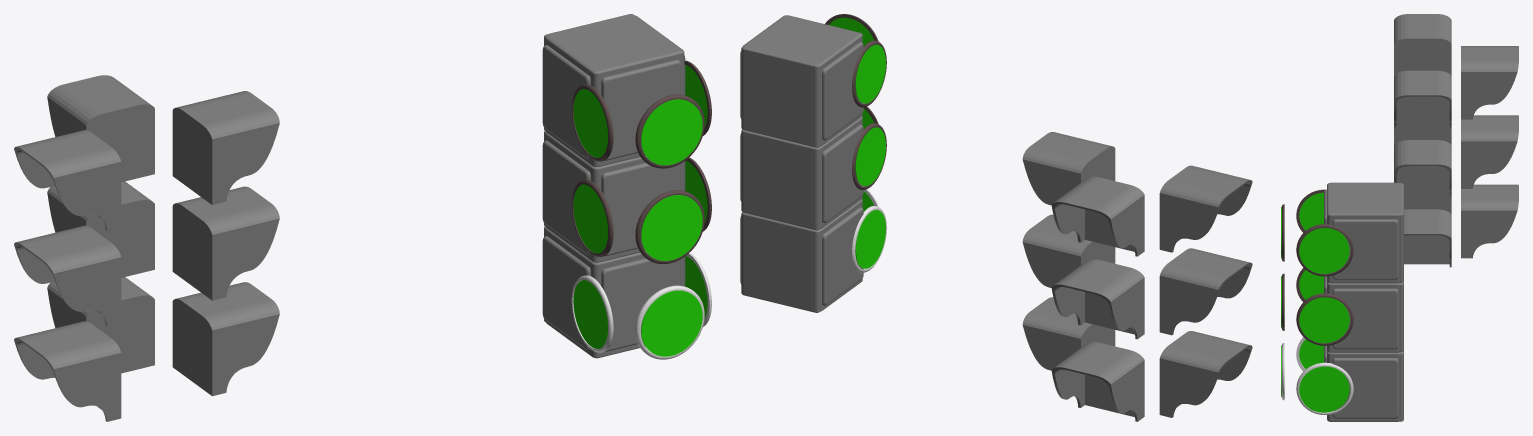
Rendered from SemaforoGrande.fbx.
3 views of the same model, side by side, from view 1: azimuth 30°, elevation 25°; view 2: azimuth 150°, elevation 25°; view 3: azimuth 270°, elevation 25° (orthographic). The views are drawn at different scales.
Visible parts, largest first — view 1: Extru5, _____5, Extru7, Extru1, Extru6, Extru2, Extru4, Extrude-Ex, _____1, _____2, _____, Extru3 (+19 smaller); view 2: _________, _____6, _____3, Extru6, Extru3, Extru, _____2, Extru4, Extrude-Ex, Extru2, Extru5, _____5 (+13 smaller); view 3: _________, _____6, _____3, Extru6, Extru, Extru3, Extrude-Ex, Extru5, _____5, Extru7, Extru1, _____30 (+13 smaller).
Boxes of the visible parts, x1,y1,x2,y2 form: Extru5: [172, 91, 279, 204]; _____5: [545, 15, 684, 166]; Extru7: [172, 186, 279, 300]; Extru1: [172, 282, 279, 396]; Extru6: [47, 75, 154, 182]; Extru2: [14, 321, 121, 421]; Extru4: [14, 225, 121, 326]; Extrude-Ex: [14, 130, 121, 230]; _____1: [545, 132, 684, 262]; _____2: [542, 15, 678, 166]; _____: [545, 228, 684, 357]; Extru3: [47, 181, 154, 277]; _________: [740, 15, 854, 146]; _____6: [740, 129, 813, 229]; _____3: [740, 212, 812, 311]; Extru6: [1051, 176, 1144, 256]; Extru3: [1051, 259, 1144, 339]; Extru: [1051, 342, 1144, 421]; _____2: [749, 16, 863, 147]; Extru4: [1159, 248, 1252, 335]; Extrude-Ex: [1159, 165, 1252, 252]; Extru2: [1159, 331, 1252, 417]; Extru5: [1022, 132, 1115, 205]; _____5: [743, 15, 862, 145]; _________: [1327, 184, 1403, 282]; _____6: [1327, 281, 1403, 352]; _____3: [1327, 351, 1403, 421]; Extru6: [1461, 46, 1518, 119]; Extru: [1461, 184, 1518, 258]; Extru3: [1461, 115, 1518, 188]; Extrude-Ex: [1394, 14, 1451, 75]; Extru5: [1394, 70, 1451, 128]; _____5: [1324, 182, 1399, 283]; Extru7: [1394, 140, 1451, 197]; Extru1: [1404, 209, 1451, 267]; _____30: [1299, 366, 1349, 412].
Size of the model in its own units: 90.72 by 41.9 by 43.39.
